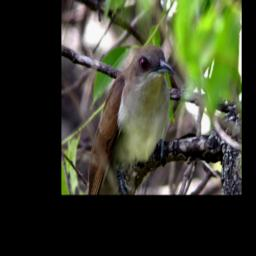Cuckoo: (88, 44, 175, 195)
